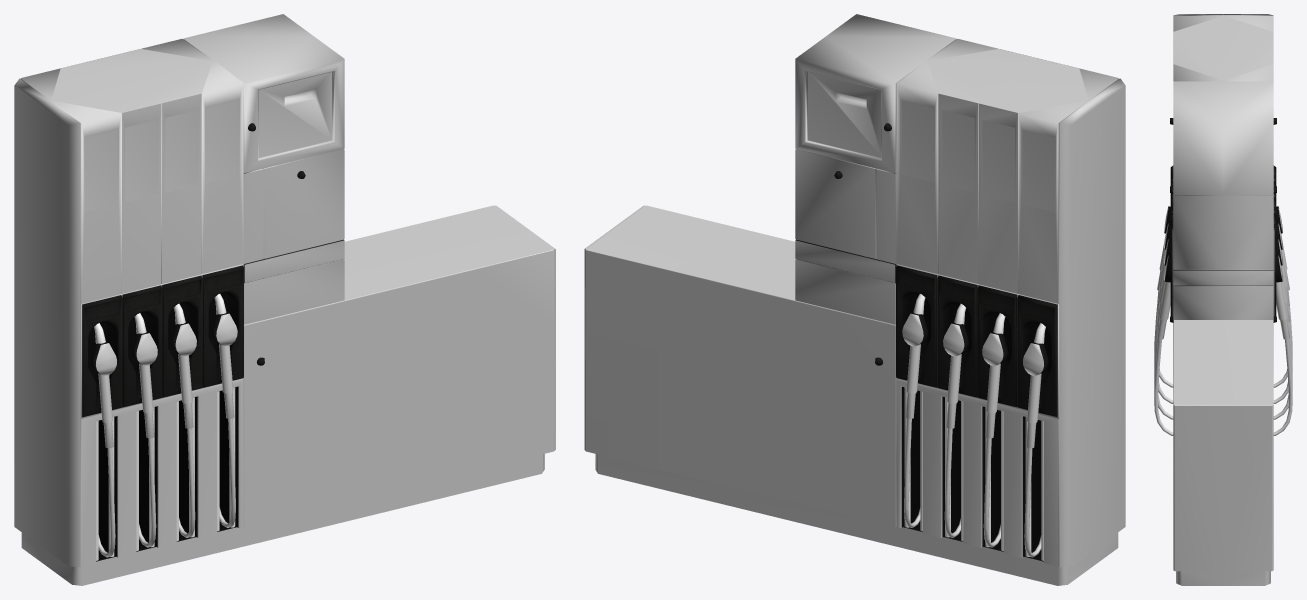
Rendered from tankstelle_zapfsaeule_02.fbx.
The picture shows the model from 3 angles, left to right: view 1: azimuth 30°, elevation 25°; view 2: azimuth 150°, elevation 25°; view 3: azimuth 270°, elevation 25°; orthographic projection. The views are drawn at different scales.
Visible parts, largest first — view 1: zapfsaeule, details; view 2: zapfsaeule, details; view 3: zapfsaeule, details.
Boxes of the visible parts, box(x1,y1,x2,y2) form: zapfsaeule: box(14, 14, 555, 585); details: box(91, 123, 305, 560); zapfsaeule: box(584, 14, 1125, 585); details: box(834, 123, 1048, 560); zapfsaeule: box(1170, 14, 1276, 585); details: box(1154, 118, 1292, 435).
Bounding box in the file's own units: 236 × 216 × 70.85.
